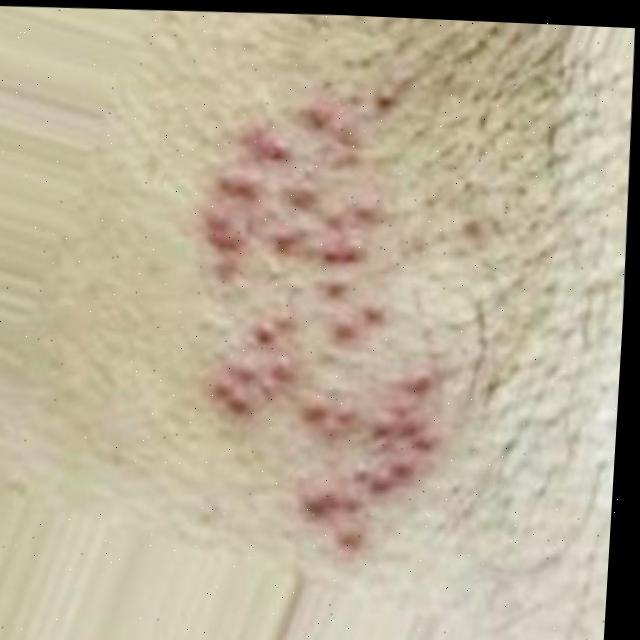Shingles: (176, 92, 460, 564)
